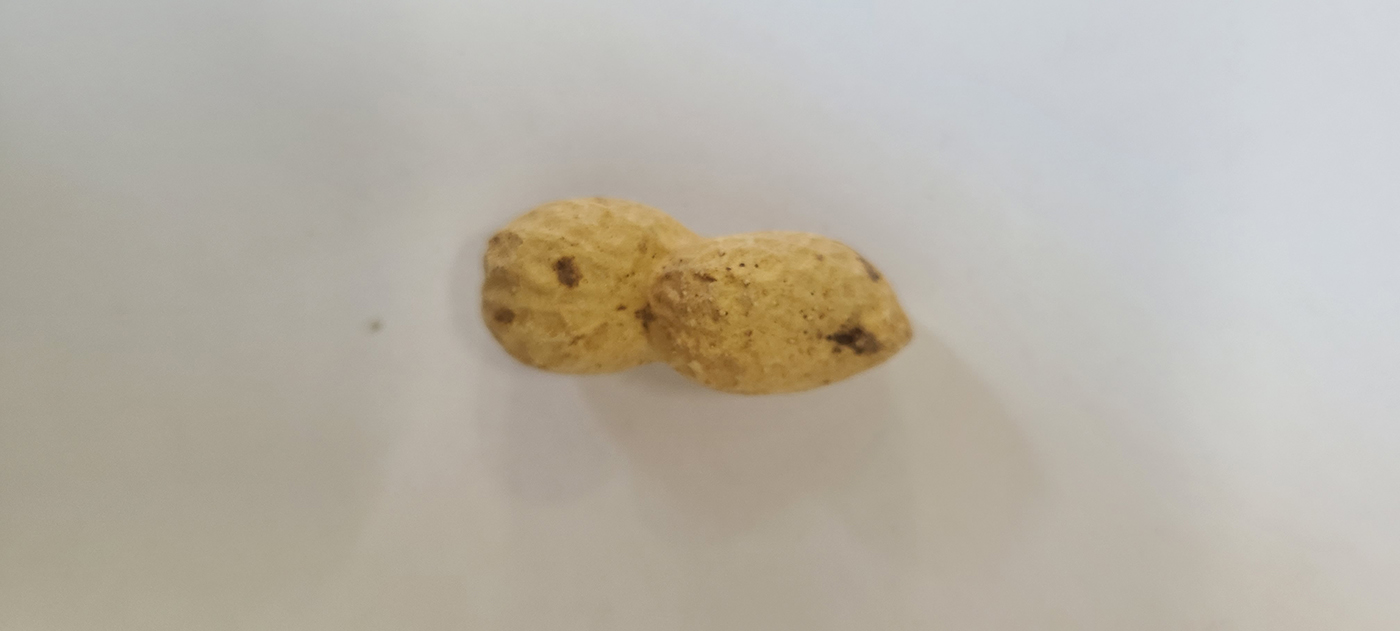h: (476, 193, 917, 396)
